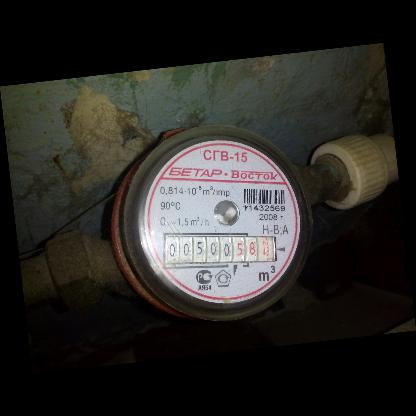digital_screen: (160, 230, 236, 268)
